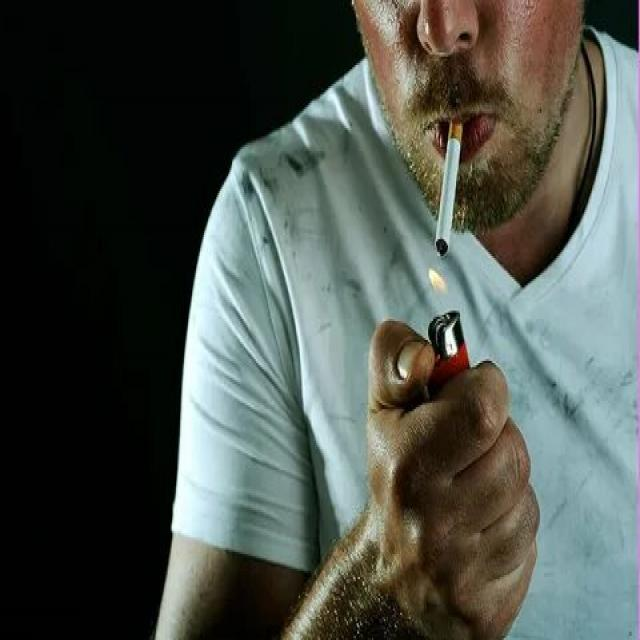cigarette: (432, 107, 469, 264)
